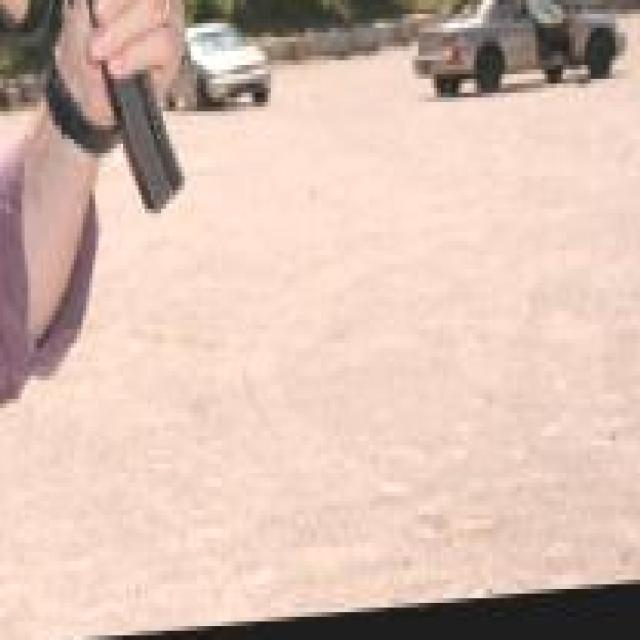Guns: (0, 0, 483, 116)
